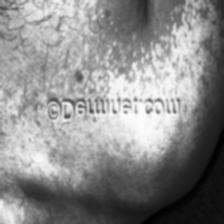Toxin: (195, 0, 224, 43), (73, 46, 93, 86)
